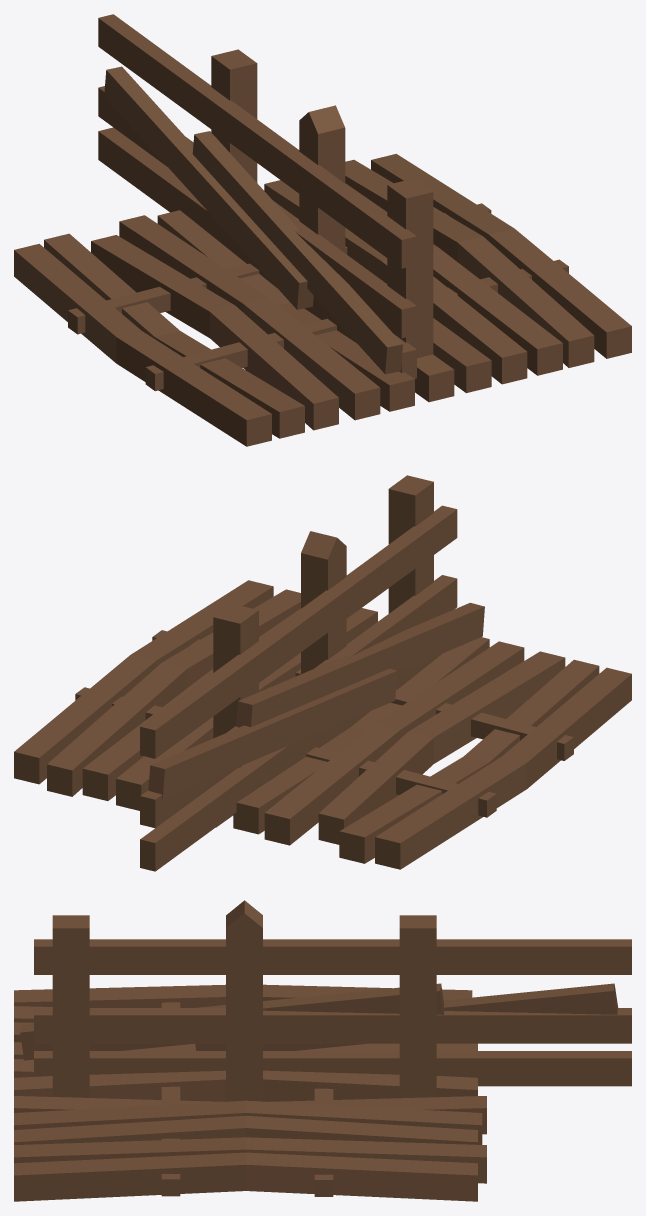
The model's file is Fences.fbx.
3 renders of one model, top to bottom at view 1: azimuth 30°, elevation 25°; view 2: azimuth 150°, elevation 25°; view 3: azimuth 270°, elevation 25°, orthographic.
Visible parts, largest first — view 1: Fence_Big, Fence_2, Fence_1, Fence_5, Fence_7, Fence_8, Fence_3, Fence_6, Fence_4, Fence_post_2; view 2: Fence_Big, Fence_2, Fence_1, Fence_5, Fence_8, Fence_3, Fence_6, Fence_7, Fence_4, Fence_post_2; view 3: Fence_Big, Fence_1, Fence_4, Fence_3, Fence_6, Fence_2, Fence_5, Fence_post_2, Fence_8.
Boxes of the visible parts, x1,y1,x2,y2 form: Fence_Big: (14,153,631,446); Fence_2: (186,49,430,374); Fence_1: (186,50,433,358); Fence_5: (104,66,313,309); Fence_7: (98,14,326,203); Fence_8: (98,86,317,314); Fence_3: (186,51,432,378); Fence_6: (98,15,345,252); Fence_4: (99,14,328,242); Fence_post_2: (299,105,344,133); Fence_Big: (14,580,631,869); Fence_2: (213,475,484,767); Fence_1: (214,475,457,731); Fence_5: (148,668,397,798); Fence_8: (140,546,368,871); Fence_3: (216,477,456,797); Fence_6: (140,570,368,842); Fence_7: (140,570,369,758); Fence_4: (141,574,368,730); Fence_post_2: (301,531,345,559); Fence_Big: (14,984,486,1201); Fence_1: (34,915,458,1098); Fence_4: (207,928,631,1101); Fence_3: (34,915,458,1097); Fence_6: (207,928,631,1101); Fence_2: (20,915,457,1097); Fence_5: (195,983,618,1050); Fence_post_2: (226,900,262,1101); Fence_8: (207,1008,631,1057).
Size of the model in its own units: 334 by 165 by 438.
